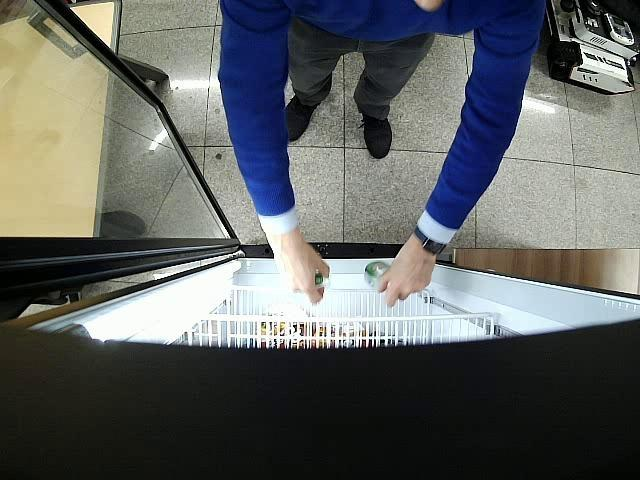18_trevi: (366, 261, 390, 291), (312, 270, 328, 289)
